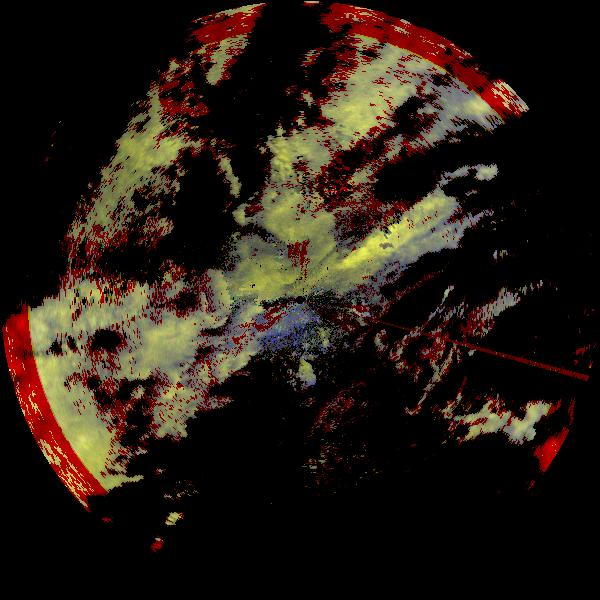roost: (278, 355, 323, 400), (340, 296, 373, 329), (315, 333, 339, 357)
